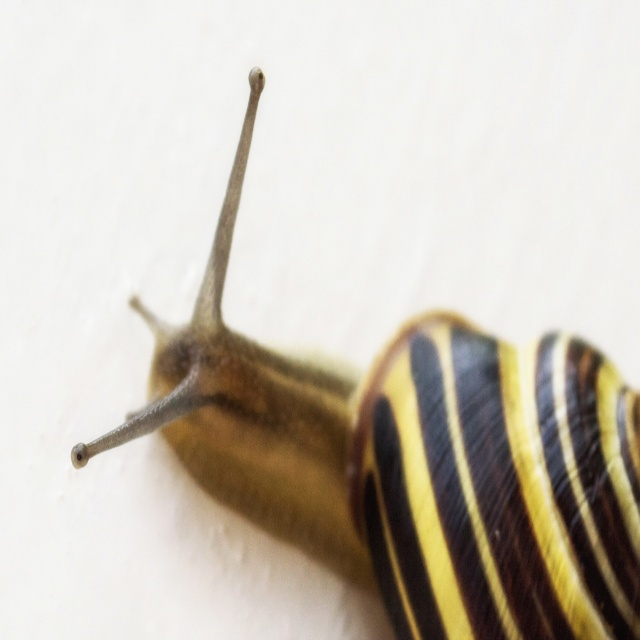Snail: (69, 59, 640, 639)
